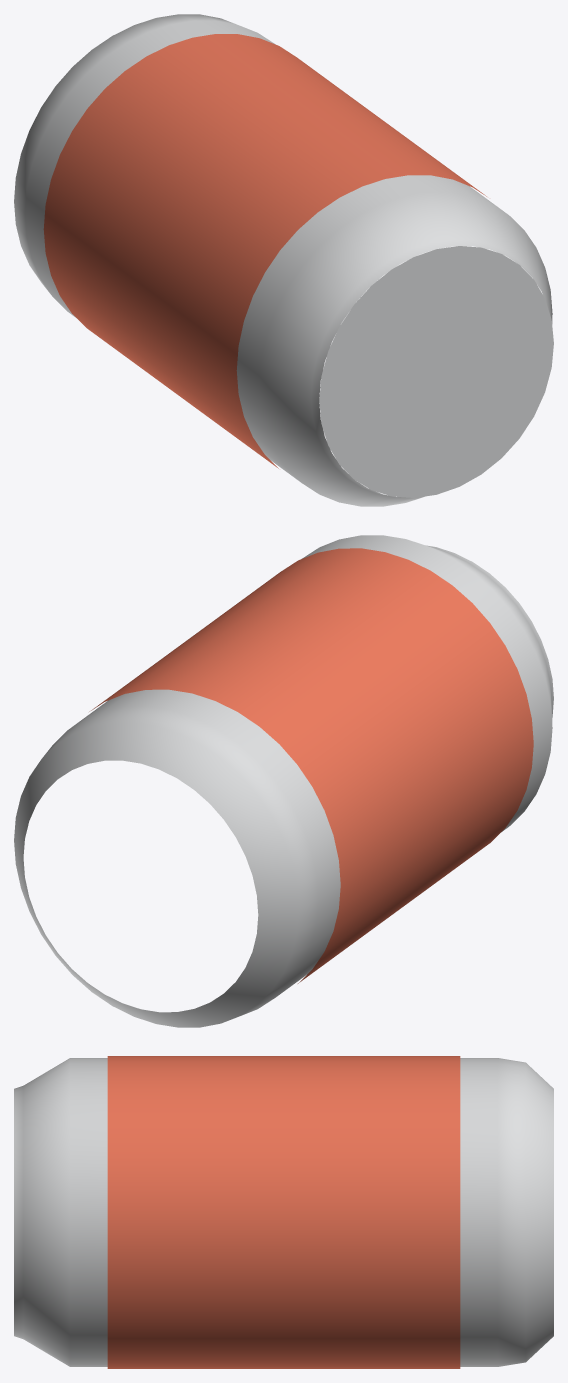
File: Stock__ManualShelfNorth4__Tote003__Goods0.glb
The picture shows the model from 3 angles, top to bottom: view 1: azimuth 30°, elevation 25°; view 2: azimuth 150°, elevation 25°; view 3: azimuth 270°, elevation 25°; orthographic projection. The views are drawn at different scales.
Visible parts, largest first — view 1: /World/Stock/ManualShelfNorth4/Tote003/Goods0/Visual/CanAlum, /World/Stock/ManualShelfNorth4/Tote003/Goods0/Visual/Printed; view 2: /World/Stock/ManualShelfNorth4/Tote003/Goods0/Visual/Printed, /World/Stock/ManualShelfNorth4/Tote003/Goods0/Visual/CanAlum; view 3: /World/Stock/ManualShelfNorth4/Tote003/Goods0/Visual/Printed, /World/Stock/ManualShelfNorth4/Tote003/Goods0/Visual/CanAlum.
Boxes of the visible parts, x1,y1,x2,y2 form: /World/Stock/ManualShelfNorth4/Tote003/Goods0/Visual/CanAlum: [14, 14, 553, 506]; /World/Stock/ManualShelfNorth4/Tote003/Goods0/Visual/Printed: [43, 34, 486, 468]; /World/Stock/ManualShelfNorth4/Tote003/Goods0/Visual/Printed: [89, 548, 533, 983]; /World/Stock/ManualShelfNorth4/Tote003/Goods0/Visual/CanAlum: [14, 535, 553, 1027]; /World/Stock/ManualShelfNorth4/Tote003/Goods0/Visual/Printed: [107, 1056, 460, 1368]; /World/Stock/ManualShelfNorth4/Tote003/Goods0/Visual/CanAlum: [14, 1058, 553, 1366].
Size of the model in its own units: 0.0668 by 0.0668 by 0.1152.
